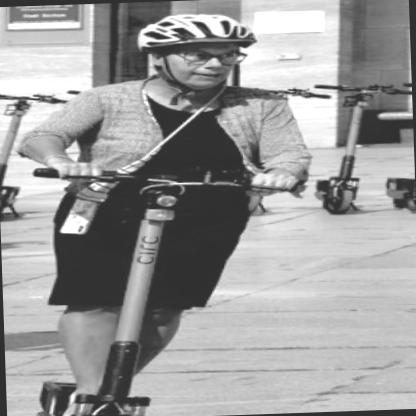helmet: (122, 13, 269, 98)
human: (27, 14, 301, 416)
kickboard: (318, 170, 364, 215)
